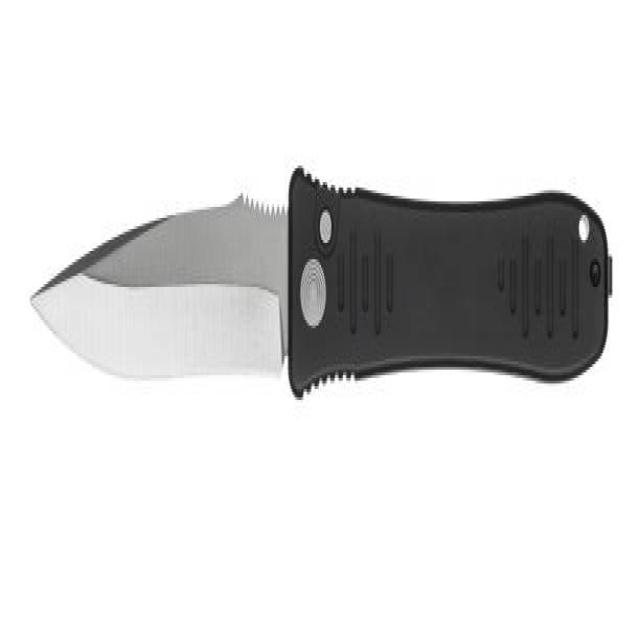knife: (26, 166, 619, 435)
